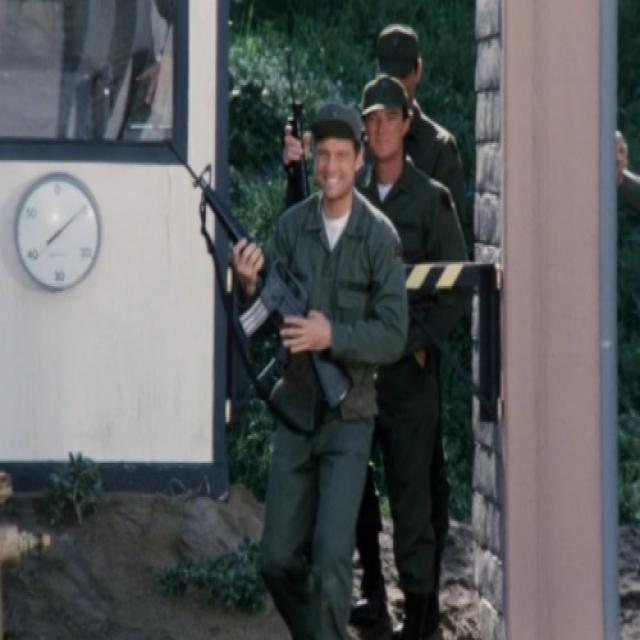rifle: (163, 138, 355, 416)
